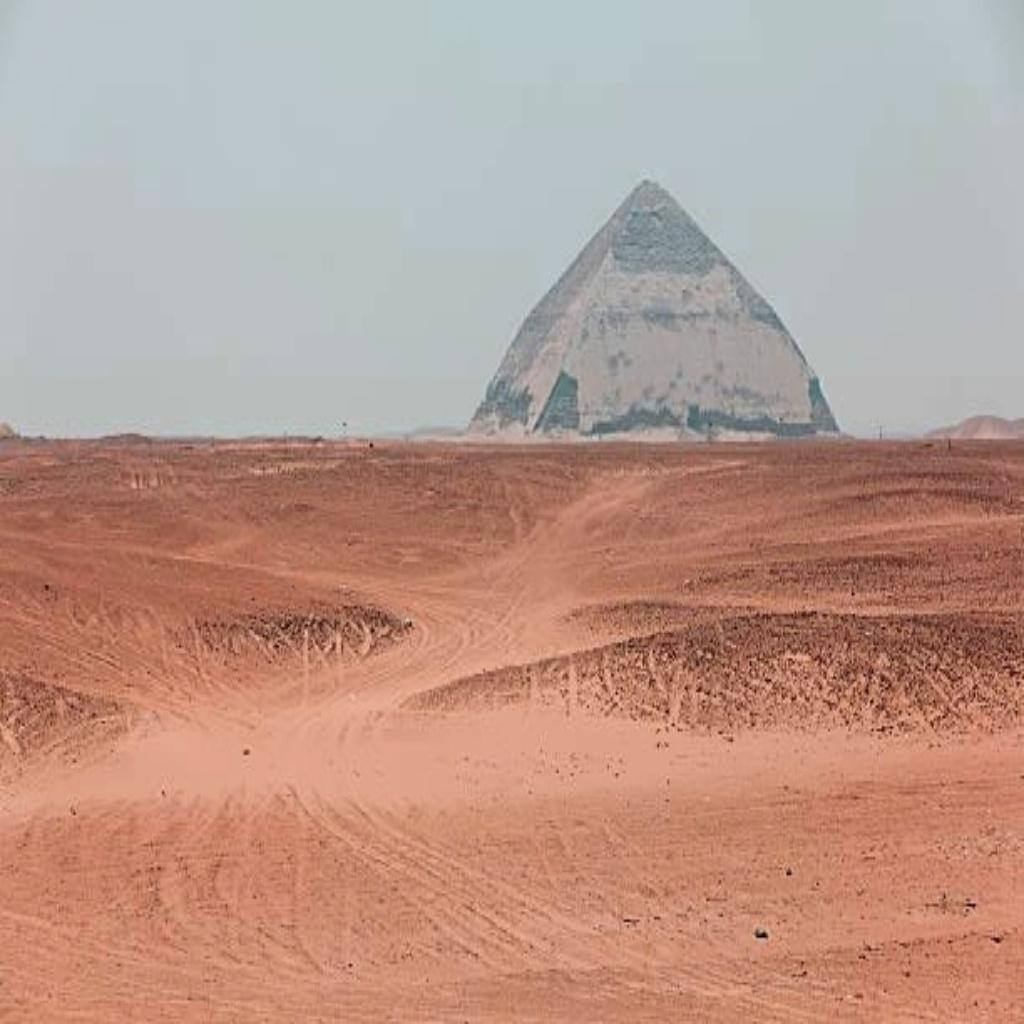Bent Pyramid of King Sneferu: (462, 170, 842, 442)
